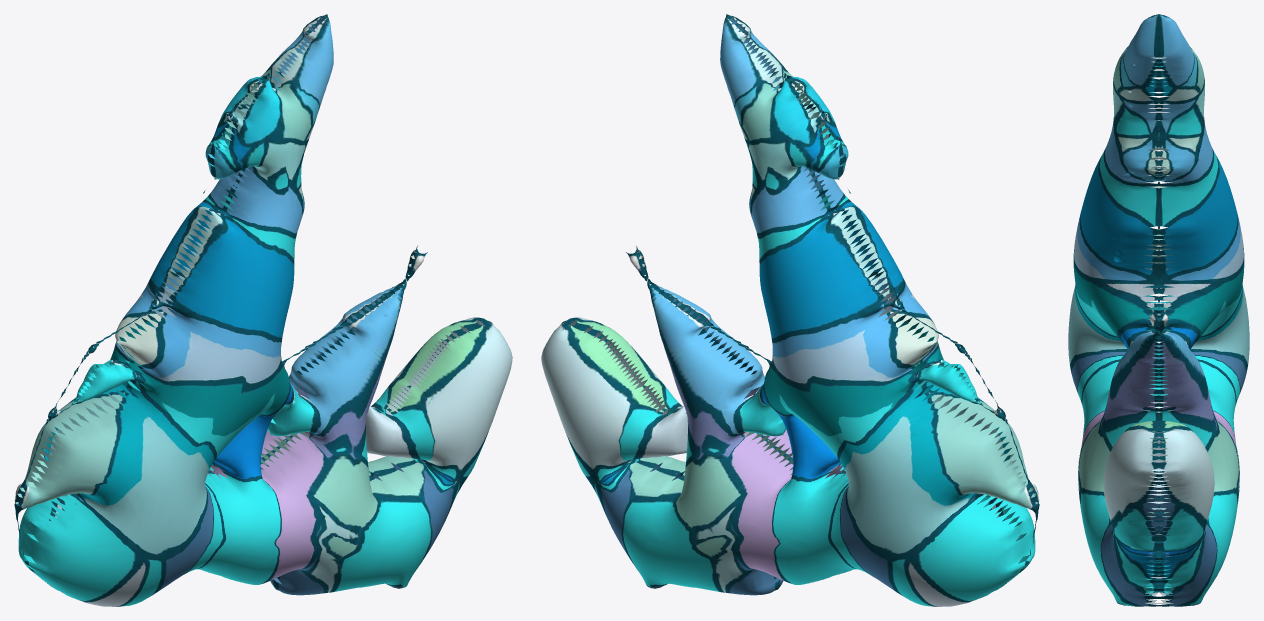
Rendered from jagged_ice_outcrop.glb.
3 renders of one model, left to right at view 1: azimuth 30°, elevation 25°; view 2: azimuth 150°, elevation 25°; view 3: azimuth 270°, elevation 25°, orthographic.
Visible parts, largest first — view 1: jagged_ice_outcrop; view 2: jagged_ice_outcrop; view 3: jagged_ice_outcrop.
Boxes of the visible parts, x1,y1,x2,y2 form: jagged_ice_outcrop: (14,14,512,606); jagged_ice_outcrop: (541,14,1039,606); jagged_ice_outcrop: (1068,14,1249,606).
Size of the model in its own units: 0.9871 by 1.1 by 0.322.
1 material, 1 textured.
